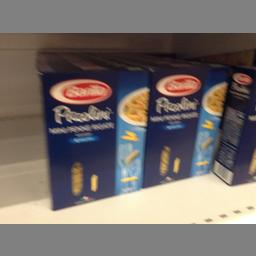pasta: (38, 64, 150, 209), (140, 62, 230, 186)
